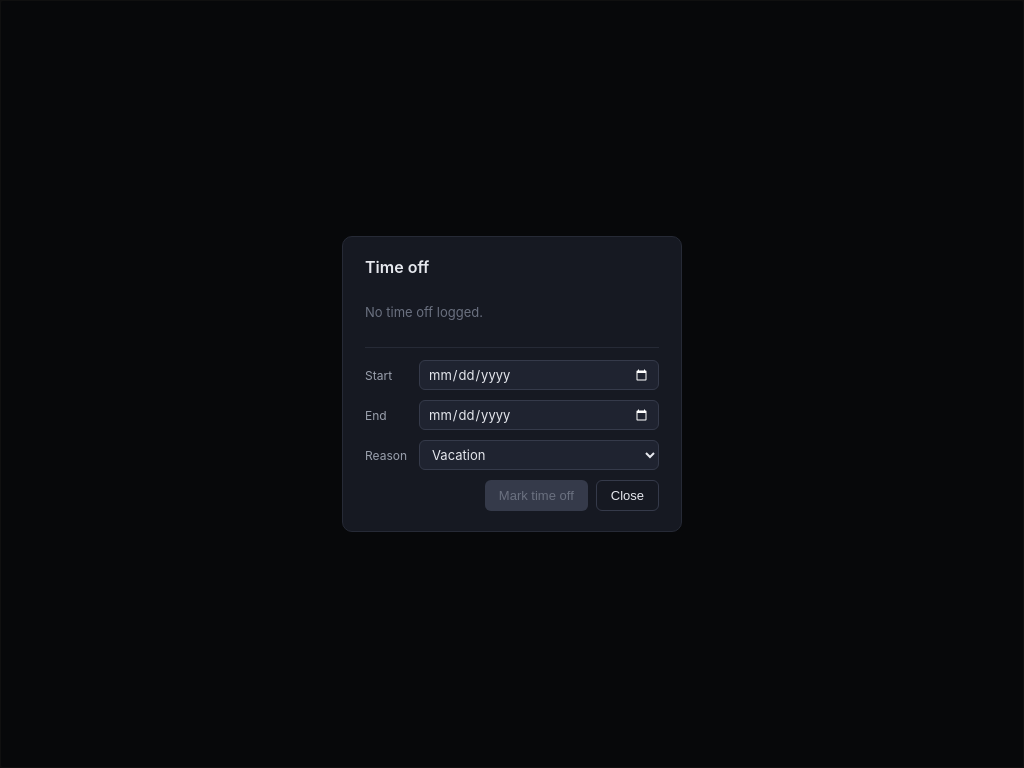
Test: TimeOffModal › disables submit when end is before start
Step 1. Type "2026-06-20" into the date field with test id "start-on" → [539, 375], box [419,360,659,390]
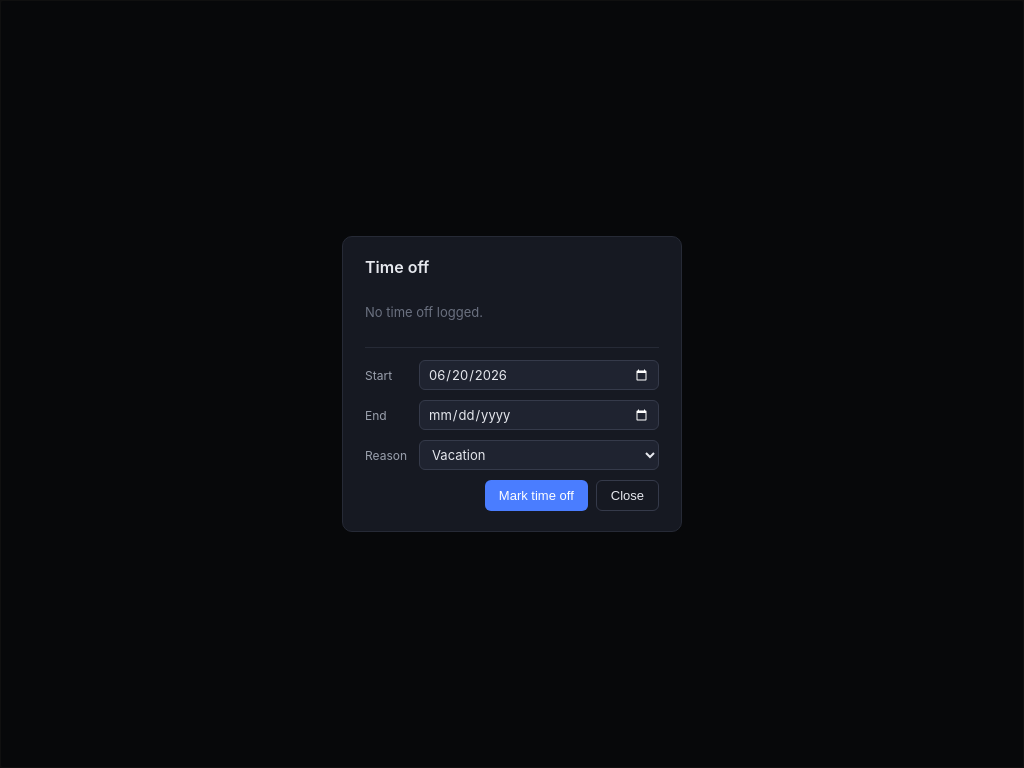
Step 2. Type "2026-06-18" into the date field with test id "end-on" → [539, 415], box [419,400,659,430]
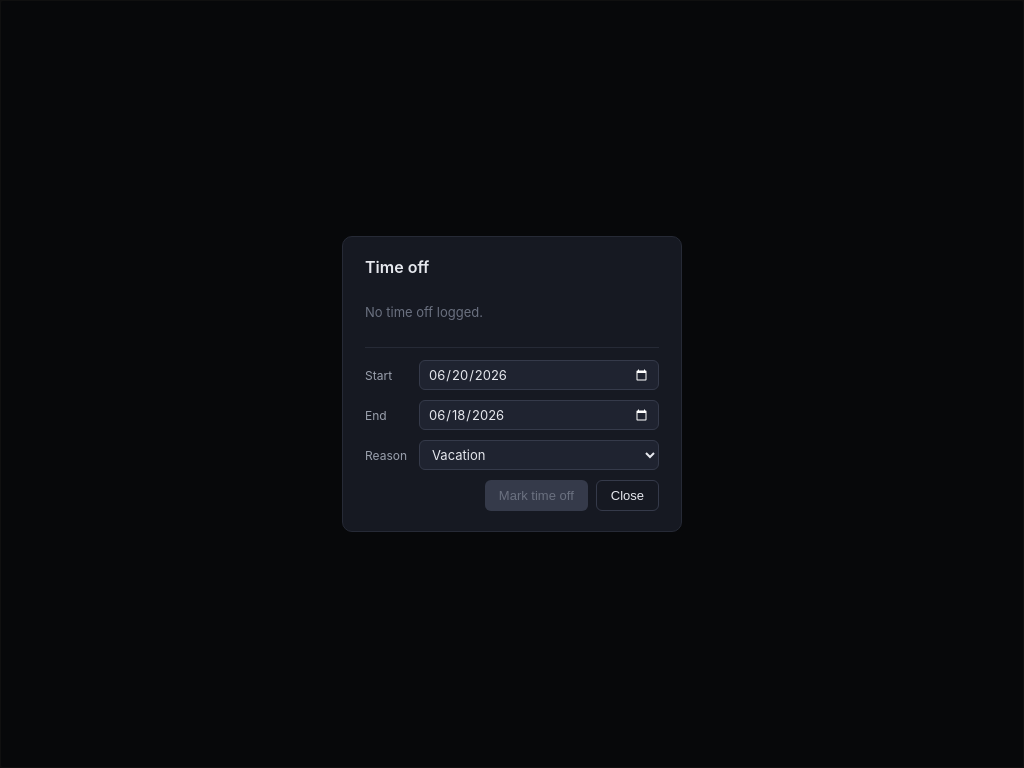
expect the button with test id "create-submit" is disabled: met, box [485,480,588,511]
